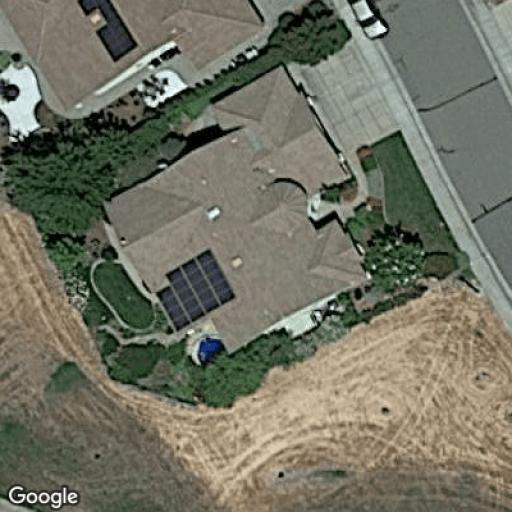solar-panel: (154, 250, 236, 331), (75, 0, 137, 63)
